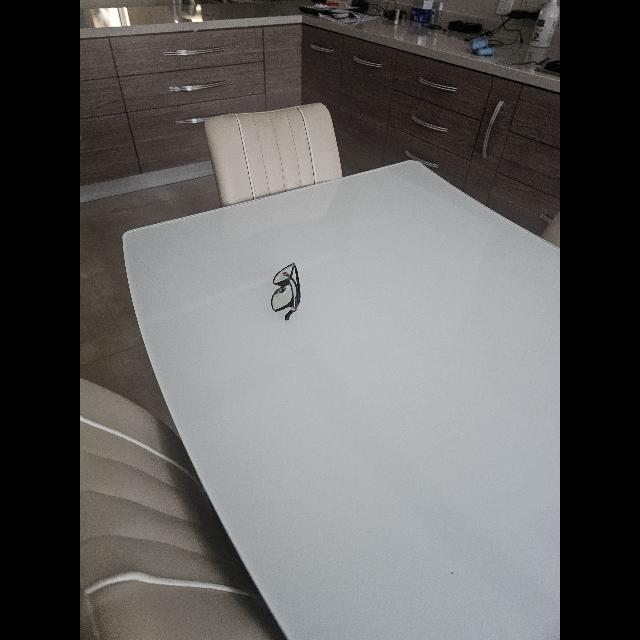glasses: (272, 264, 300, 320)
